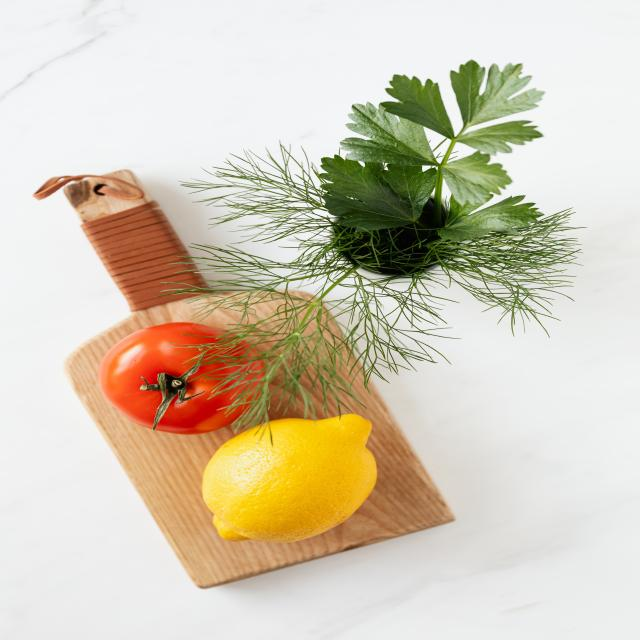Tomato: (119, 323, 263, 432)
